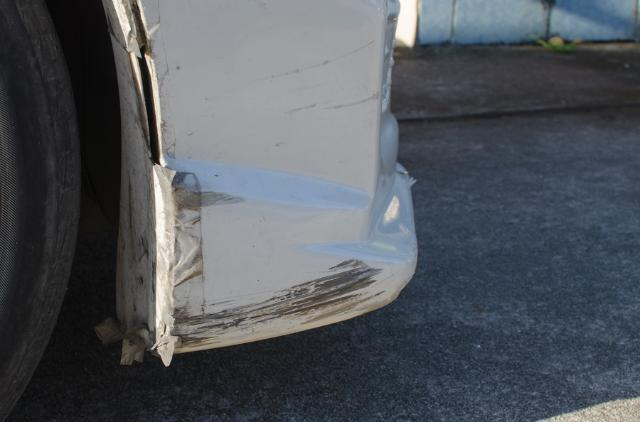Bumper: (114, 1, 405, 333)
